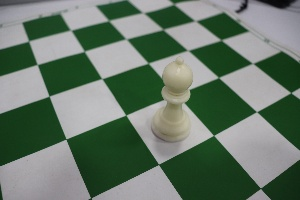white_bishop: (141, 46, 203, 148)
